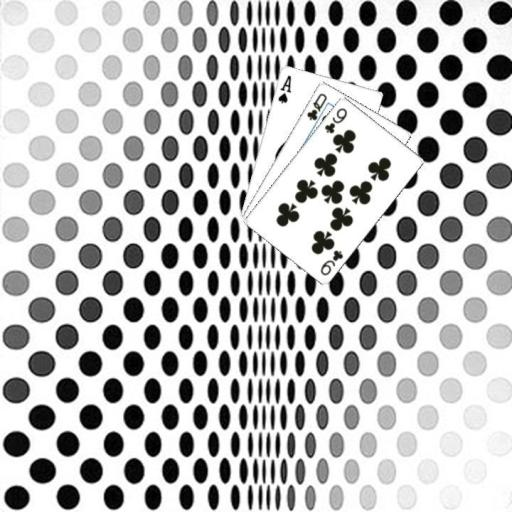9C: (317, 246, 345, 277), (322, 104, 349, 134)
AS: (275, 72, 293, 104)
QC: (304, 90, 329, 122)
